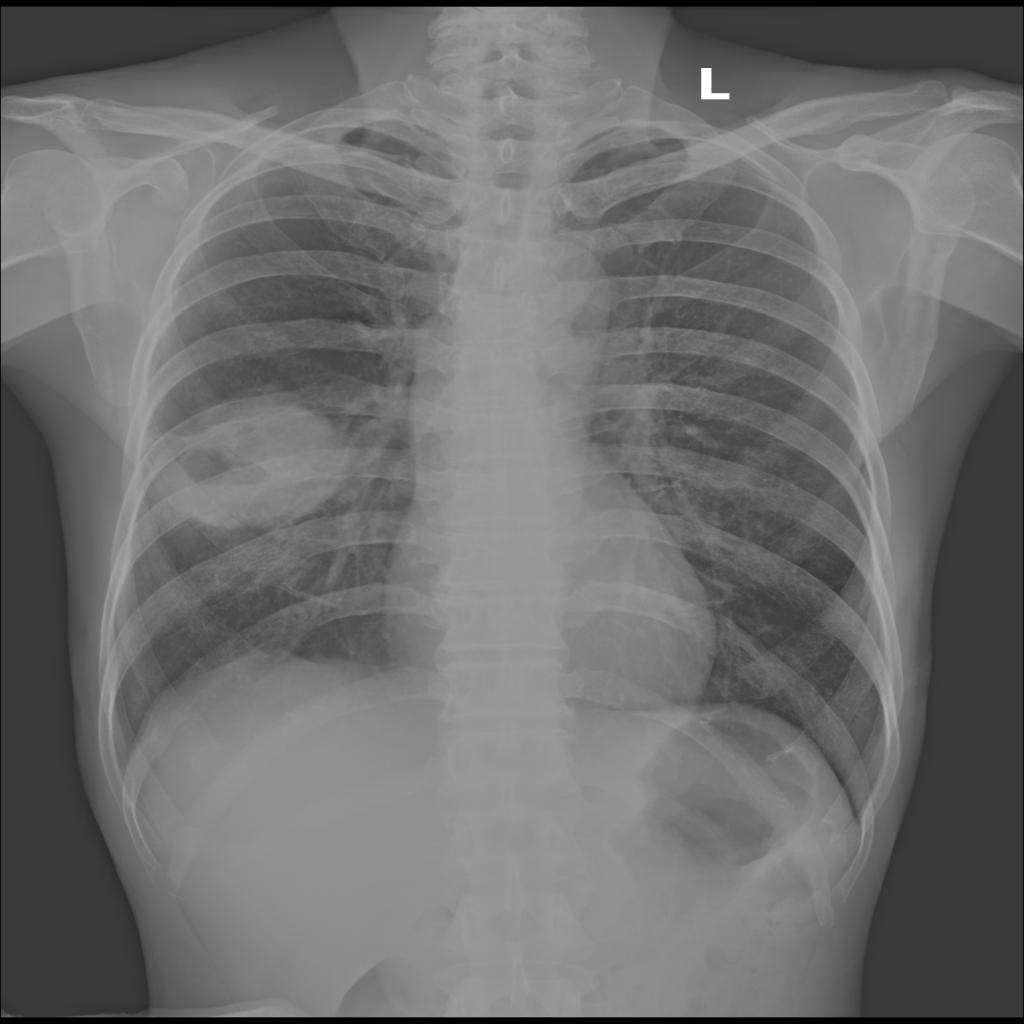Nodule: (156, 396, 348, 527)
